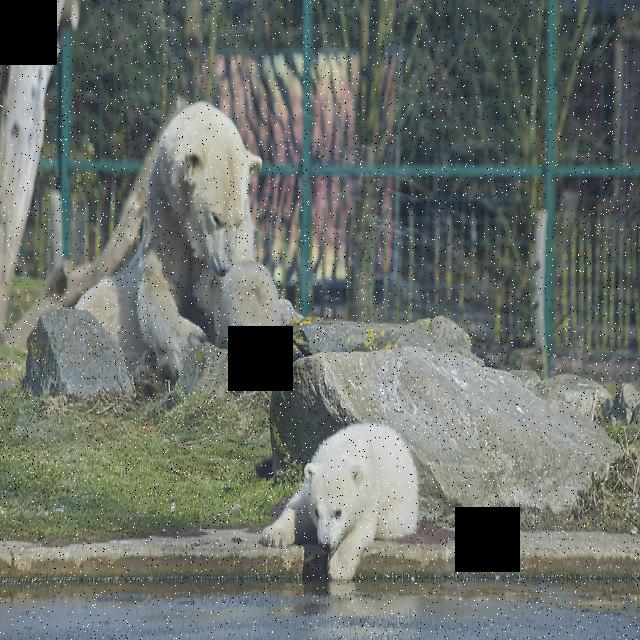Bear: (76, 98, 273, 382), (260, 410, 432, 570)
